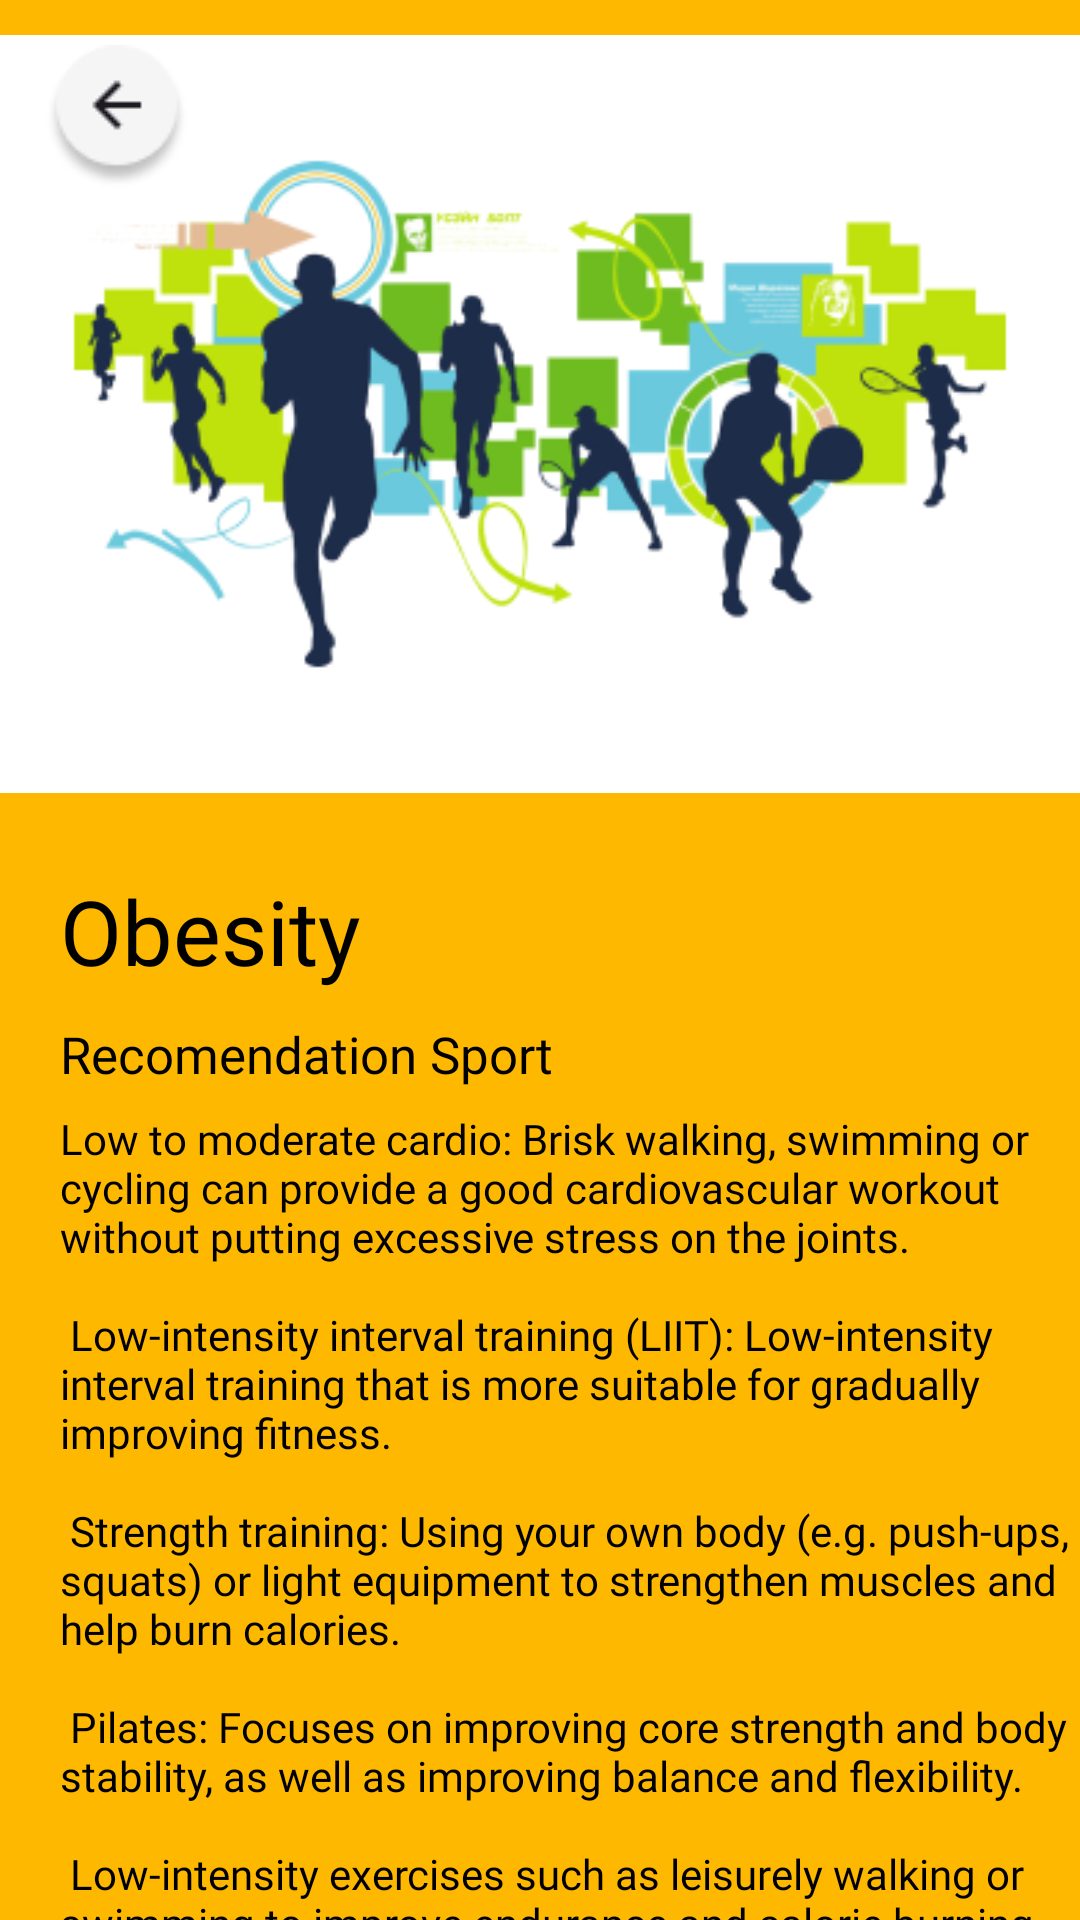

Point at icon controls on the screen. Image size 1080px x 1920px, points as (x=x, y=y).
back: (x=117, y=114)
